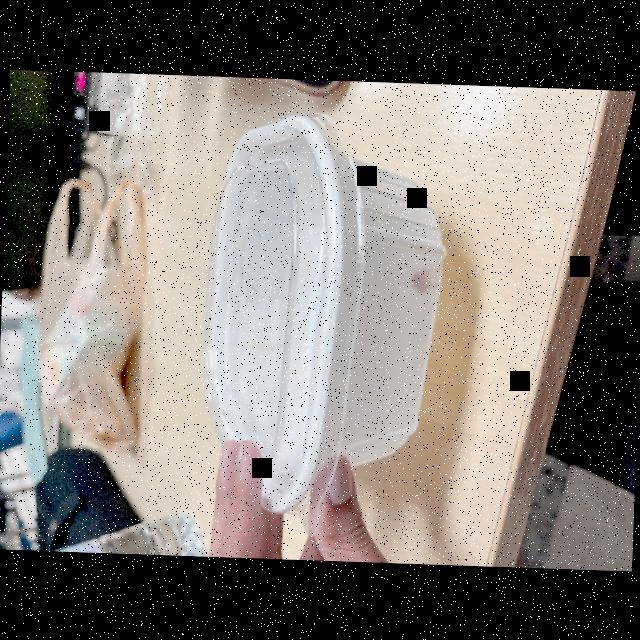plastic_box: (188, 108, 454, 530)
